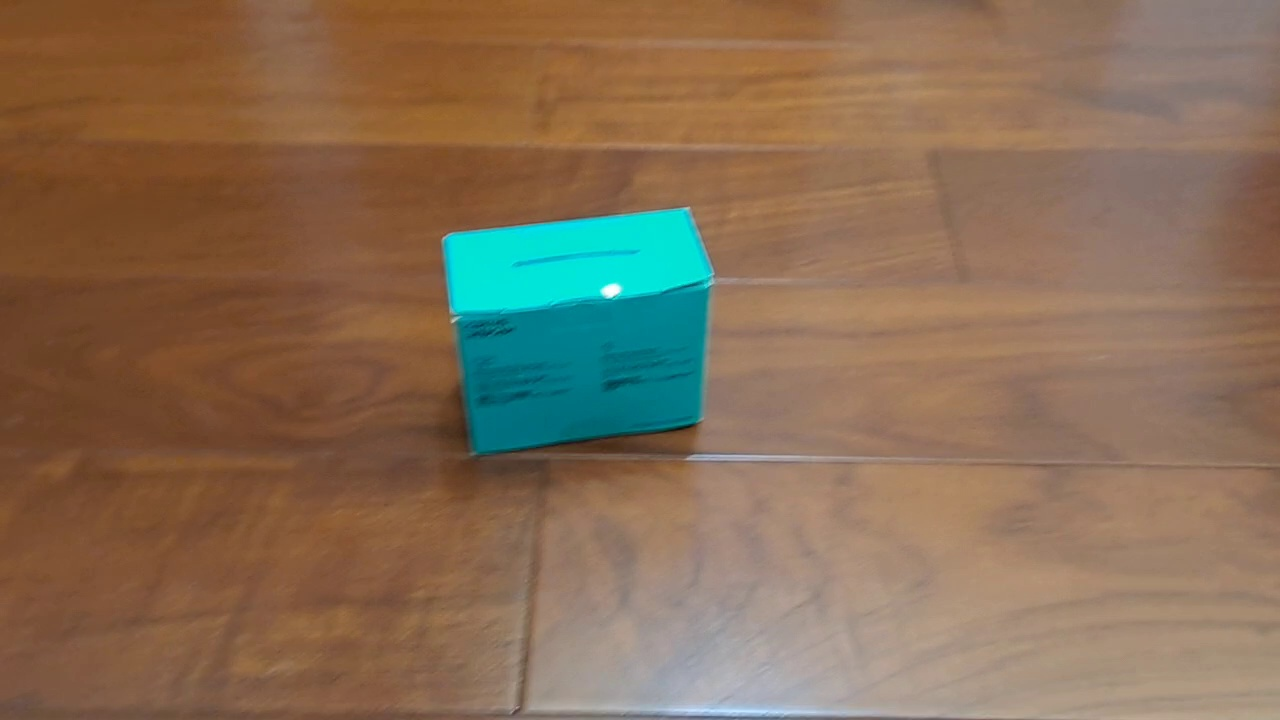webcam: (440, 205, 716, 459)
